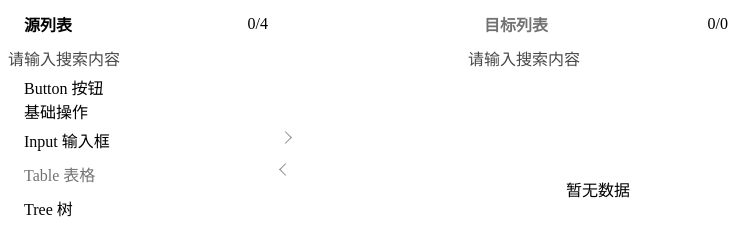
Test: Transfer › 支持筛选和自定义筛选方法
Type "基础" into the search field with class "su-transfer__filter-input" below "源列表" at (138, 60), box [8, 45, 268, 75]
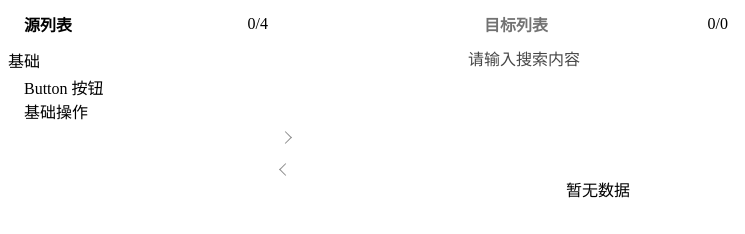
Expected: the element with class "su-transfer__panel" shows "Button 按钮", [24, 80, 104, 97]
Expected: the text with class "su-transfer__panel" no longer shows "Input 输入框"
